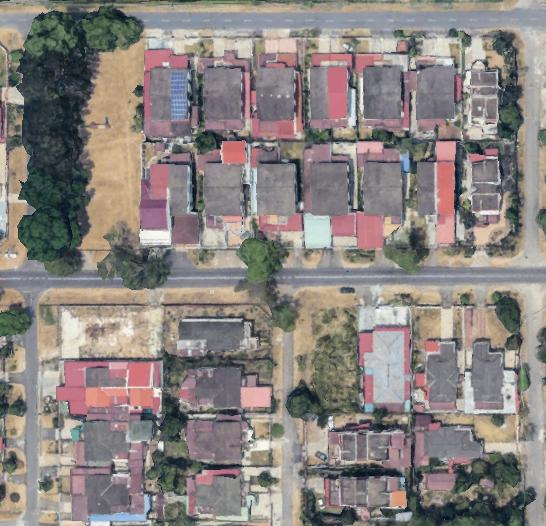building: (355, 322, 415, 416), (321, 475, 411, 524), (325, 425, 414, 473), (414, 418, 487, 469), (353, 138, 385, 253), (463, 58, 504, 144), (166, 148, 200, 250), (301, 140, 330, 252), (466, 145, 505, 228), (385, 38, 418, 135), (173, 314, 249, 355), (142, 44, 174, 140), (136, 159, 170, 248), (220, 137, 250, 237), (433, 138, 460, 249), (276, 49, 307, 143), (468, 335, 508, 407), (220, 48, 252, 134), (422, 336, 461, 405), (331, 150, 356, 251), (196, 144, 223, 235), (356, 47, 385, 130), (195, 54, 225, 134), (382, 147, 412, 227), (277, 156, 302, 252), (253, 142, 276, 240), (254, 50, 279, 140), (171, 47, 194, 141), (438, 50, 465, 129), (307, 50, 332, 132), (414, 50, 438, 134), (332, 49, 355, 133), (188, 418, 246, 444), (188, 472, 246, 498), (80, 471, 132, 499), (190, 365, 243, 392), (79, 417, 130, 443), (80, 364, 133, 388), (188, 497, 245, 519), (79, 389, 135, 410), (414, 159, 433, 219), (190, 445, 246, 465), (187, 393, 243, 412), (83, 445, 134, 464), (84, 498, 133, 517)
